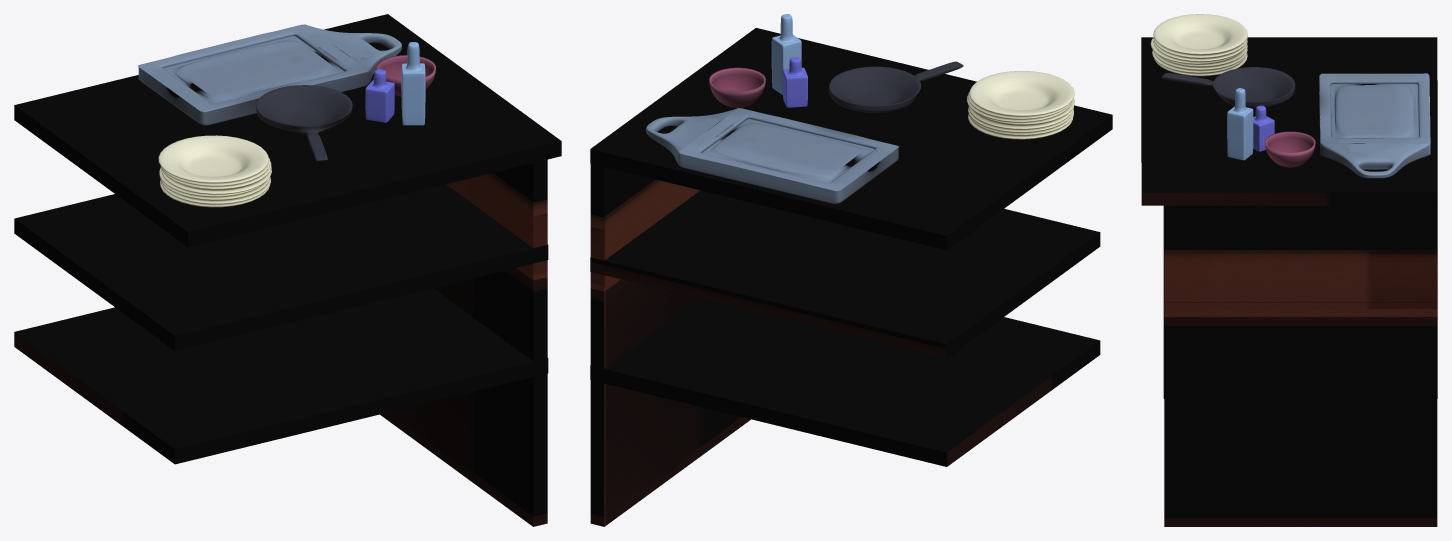
3 views of the same model, side by side, from view 1: azimuth 30°, elevation 25°; view 2: azimuth 150°, elevation 25°; view 3: azimuth 270°, elevation 25° (orthographic). The views are drawn at different scales.
Parts seen in each view (by area): view 1: Cube.003, Cube.020, Cylinder, plate, Plane.017, Plane.001, Sphere.013; view 2: Cube.003, Cube.020, Cylinder, plate, Sphere.013, Plane.017, Plane.001; view 3: Cube.003, Cube.020, Cylinder, plate, Plane.017, Sphere.013, Plane.001.
Part boxes in pixels (x1,y1,x2,y2): Cube.003: (14,14,561,526); Cube.020: (138,24,401,125); Cylinder: (158,135,271,207); plate: (256,85,352,161); Plane.017: (401,42,425,125); Plane.001: (365,69,394,122); Sphere.013: (376,55,435,96); Cube.003: (590,28,1112,526); Cube.020: (646,108,898,203); Cylinder: (967,71,1074,139); plate: (829,61,963,112); Sphere.013: (709,67,765,107); Plane.017: (771,14,801,94); Plane.001: (782,57,807,107); Cube.003: (1141,37,1437,526); Cube.020: (1319,73,1430,178); Cylinder: (1150,14,1247,76); plate: (1161,67,1295,108); Plane.017: (1227,88,1253,160); Sphere.013: (1265,131,1315,167); Plane.001: (1253,105,1274,151).
Bounding box in the file's own units: 425 × 510 × 342.
